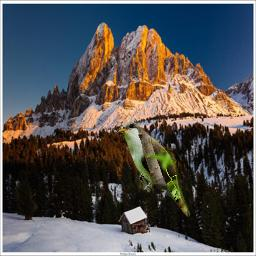Cuckoo: (114, 121, 194, 217)
